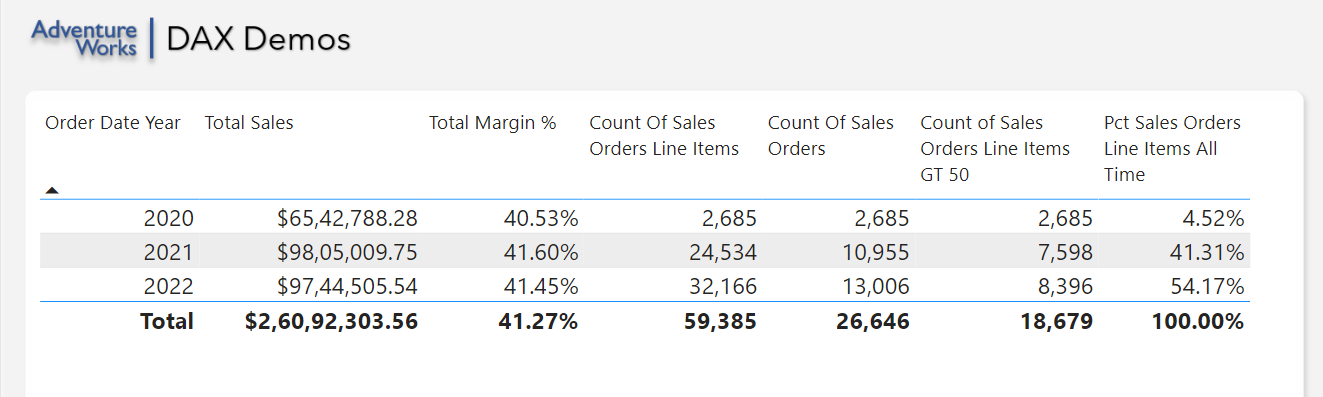

This screenshot's page, from the dashboard's own definition file:
{"tool":"powerbi","page":{"name":"Dax Demos","canvas":[1280,720],"ordinal":1},"visuals":[{"type":"tableEx","fields":{"Values":["Order Date.Order Date Year","Sales.Total Sales","Sales.Total Margin %","Sales.Count Of Sales Orders Line Items","Sales.Count Of Sales Orders","Sales.Count of Sales Orders Line Items GT 50","Sales.Pct Sales Orders Line Items All Time"]},"box":[31.4,115.8,1217.3,512.7],"z":0}]}

Visuals, with their boxes on the page's 1280x720 design canvas (x1, y1, x2, y2). These are canvas units, not pixel positions in the 1323x397 screenshot, which may show the page scaled, cropped or inside an application window:
tableEx - Order Date.Order Date Year x Sales.Total Sales: l=31, t=116, r=1249, b=628
